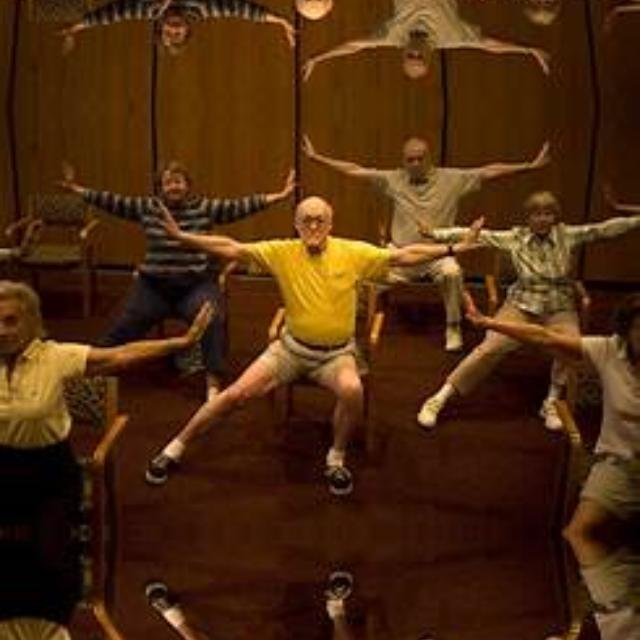person: (215, 200, 397, 466), (478, 174, 610, 388), (102, 143, 224, 315), (382, 114, 474, 316), (382, 0, 474, 100), (102, 0, 223, 71), (215, 600, 397, 640), (478, 0, 609, 40), (215, 0, 397, 14)
